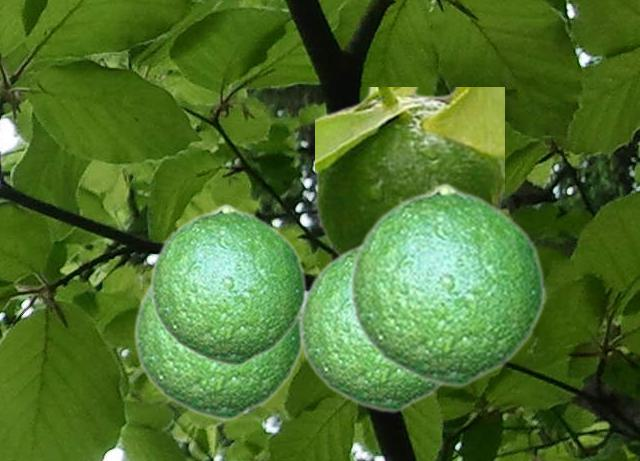dalandan: (347, 182, 545, 387), (315, 87, 503, 256), (148, 203, 306, 366), (297, 240, 440, 412), (132, 285, 302, 420)
